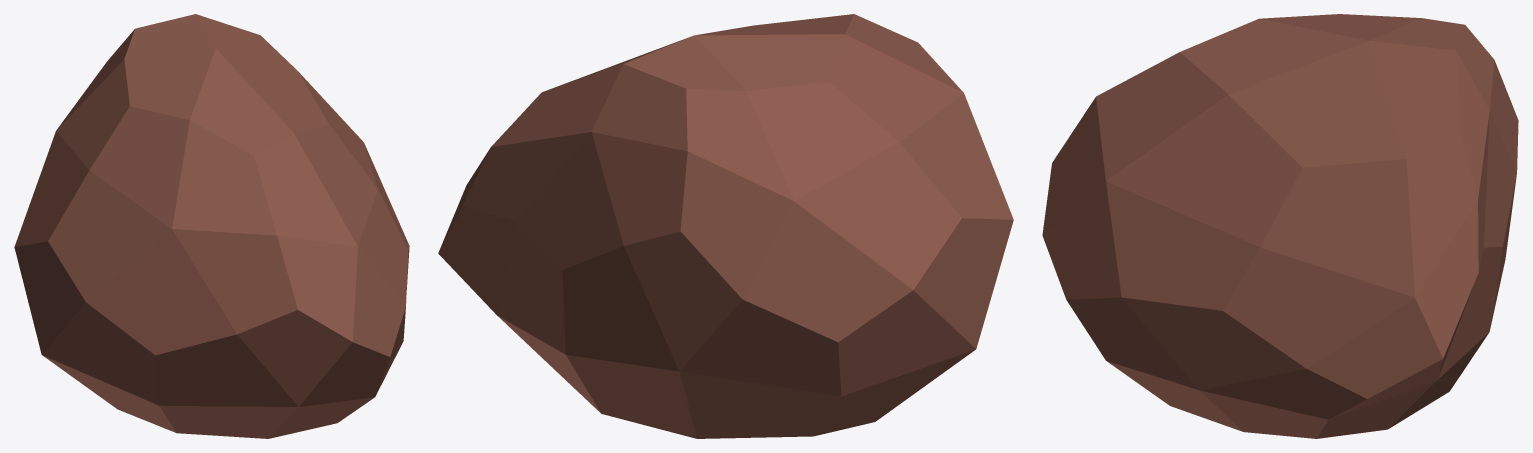
File: 01_01Asteroid.fbx
3 renders of one model, left to right at view 1: azimuth 30°, elevation 25°; view 2: azimuth 150°, elevation 25°; view 3: azimuth 270°, elevation 25°, orthographic. The views are drawn at different scales.
Parts seen in each view (by area): view 1: Icosphere.002; view 2: Icosphere.002; view 3: Icosphere.002.
Part boxes in pixels (box(x1,y1,x2,y2)): Icosphere.002: box(14, 14, 409, 438); Icosphere.002: box(438, 14, 1013, 438); Icosphere.002: box(1042, 14, 1518, 438).
Size of the model in its own units: 220 by 188 by 214.
